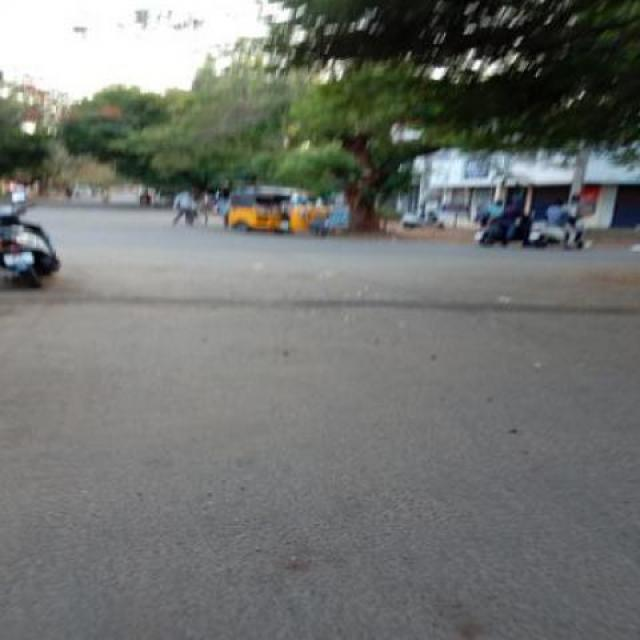Unmarked Bump: (0, 290, 639, 318)
